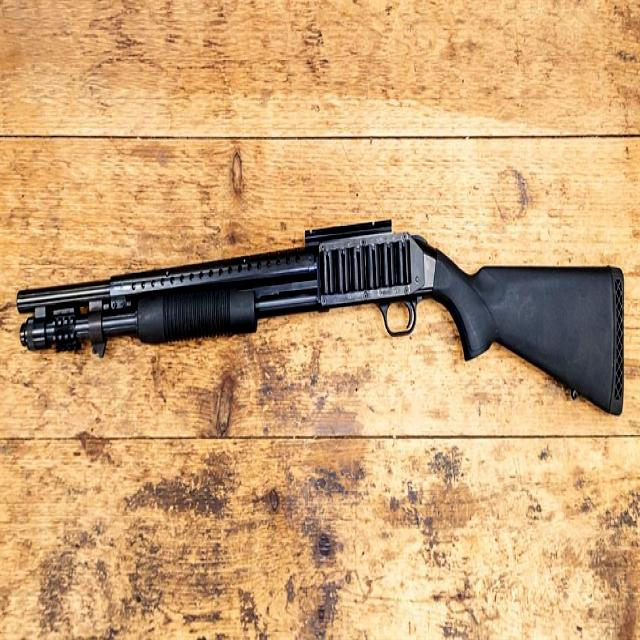shotgun: (18, 209, 627, 430)
